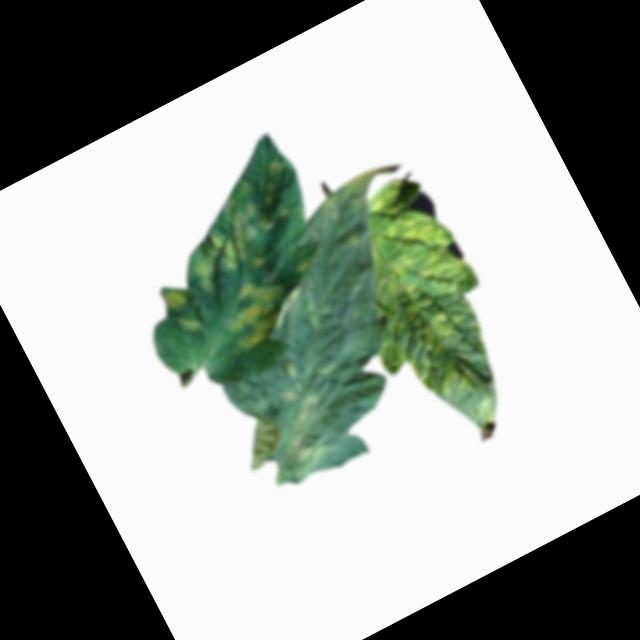Leaf_Mold: (307, 165, 547, 468), (169, 187, 289, 297), (248, 356, 348, 479), (208, 265, 303, 357), (156, 279, 190, 314), (175, 308, 205, 337)
